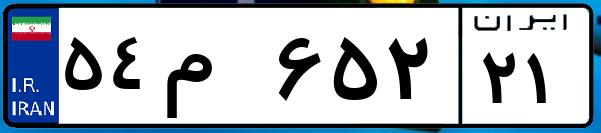1: (525, 38, 570, 115)
2: (385, 28, 445, 110), (475, 38, 525, 113)
4: (110, 28, 158, 98)
5: (330, 28, 385, 110), (57, 26, 110, 100)
6: (270, 28, 330, 110)
م: (158, 20, 270, 120)
